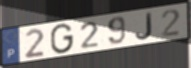2: (23, 27, 46, 60), (160, 8, 182, 38), (79, 21, 100, 50)
9: (106, 16, 127, 46)
G: (50, 23, 75, 55)
J: (134, 11, 154, 41)
